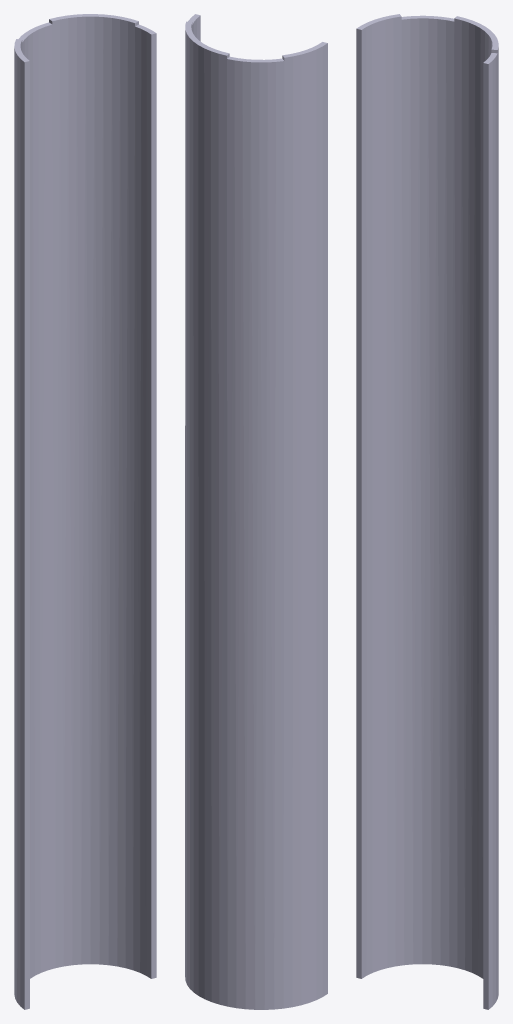
File: PM15-cut4.glb
3 views of the same model, side by side, from view 1: azimuth 30°, elevation 25°; view 2: azimuth 150°, elevation 25°; view 3: azimuth 330°, elevation 25° (orthographic).
Parts seen in each view (by area): view 1: null; view 2: null; view 3: null.
Boxes of the visible parts, <box> form: null: <box>14,14,156,1009</box>; null: <box>185,14,327,1009</box>; null: <box>356,14,498,1009</box>.
Size of the model in its own units: 9.9 by 67.89 by 4.94.
